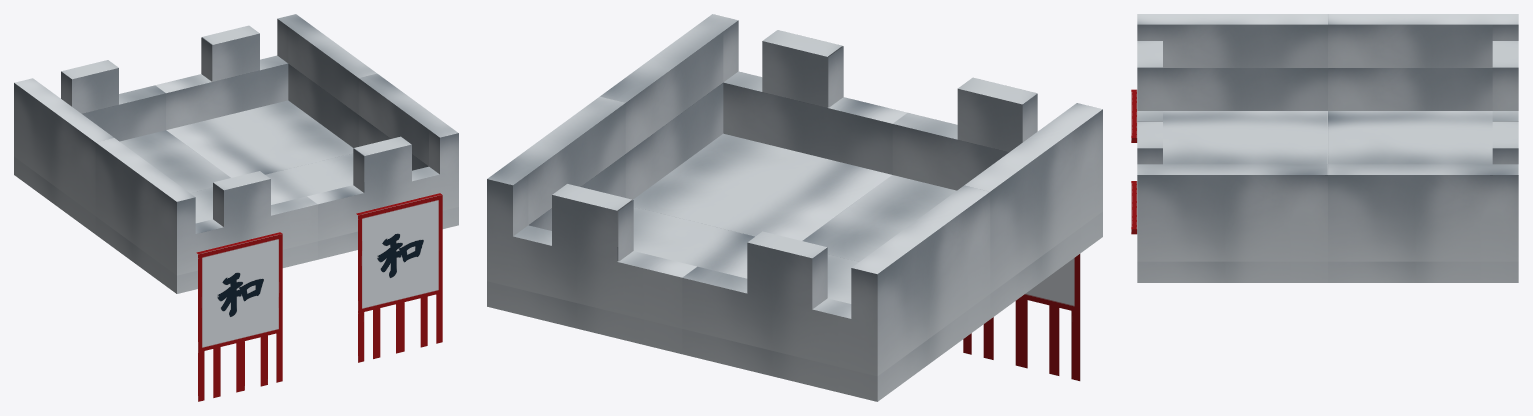
Rendered from gate variant 3.fbx.
3 renders of one model, left to right at view 1: azimuth 30°, elevation 25°; view 2: azimuth 150°, elevation 25°; view 3: azimuth 270°, elevation 25°, orthographic. The views are drawn at different scales.
Parts seen in each view (by area): view 1: roof varaint 1; view 2: roof varaint 1; view 3: roof varaint 1.
Part boxes in pixels (bbox=[...]): roof varaint 1: bbox=[14, 14, 458, 401]; roof varaint 1: bbox=[487, 14, 1102, 401]; roof varaint 1: bbox=[1131, 14, 1518, 282].
Bounding box in the file's own units: 78.74 × 54.13 × 79.92.
